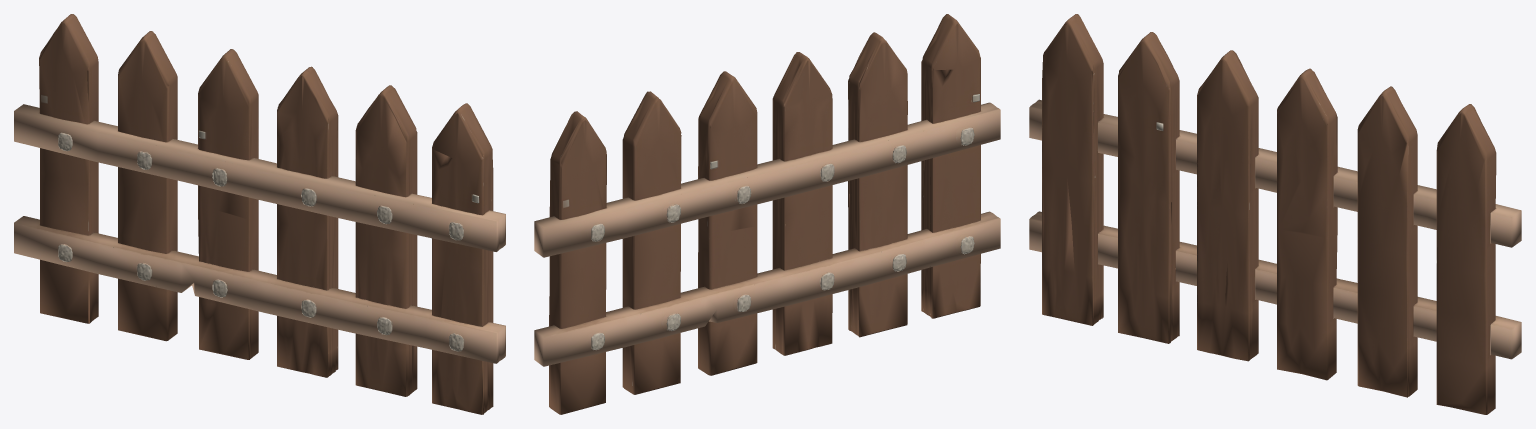
Rendered from fence_picket.glb.
The picture shows the model from 3 angles, left to right: view 1: azimuth 90°, elevation 25°; view 2: azimuth 150°, elevation 25°; view 3: azimuth 270°, elevation 25°; orthographic projection. The views are drawn at different scales.
Visible parts, largest first — view 1: tripo_node_45e2efa1-bd46-4815-9173-0f5a88388a3c; view 2: tripo_node_45e2efa1-bd46-4815-9173-0f5a88388a3c; view 3: tripo_node_45e2efa1-bd46-4815-9173-0f5a88388a3c.
Boxes of the visible parts, x1=… form: tripo_node_45e2efa1-bd46-4815-9173-0f5a88388a3c: x1=14, y1=14, x2=505, y2=414; tripo_node_45e2efa1-bd46-4815-9173-0f5a88388a3c: x1=534, y1=14, x2=1000, y2=414; tripo_node_45e2efa1-bd46-4815-9173-0f5a88388a3c: x1=1029, y1=14, x2=1521, y2=414.
Size of the model in its own units: 0.5645 by 0.6699 by 0.998.
Materials: 1 (1 with a texture image).
